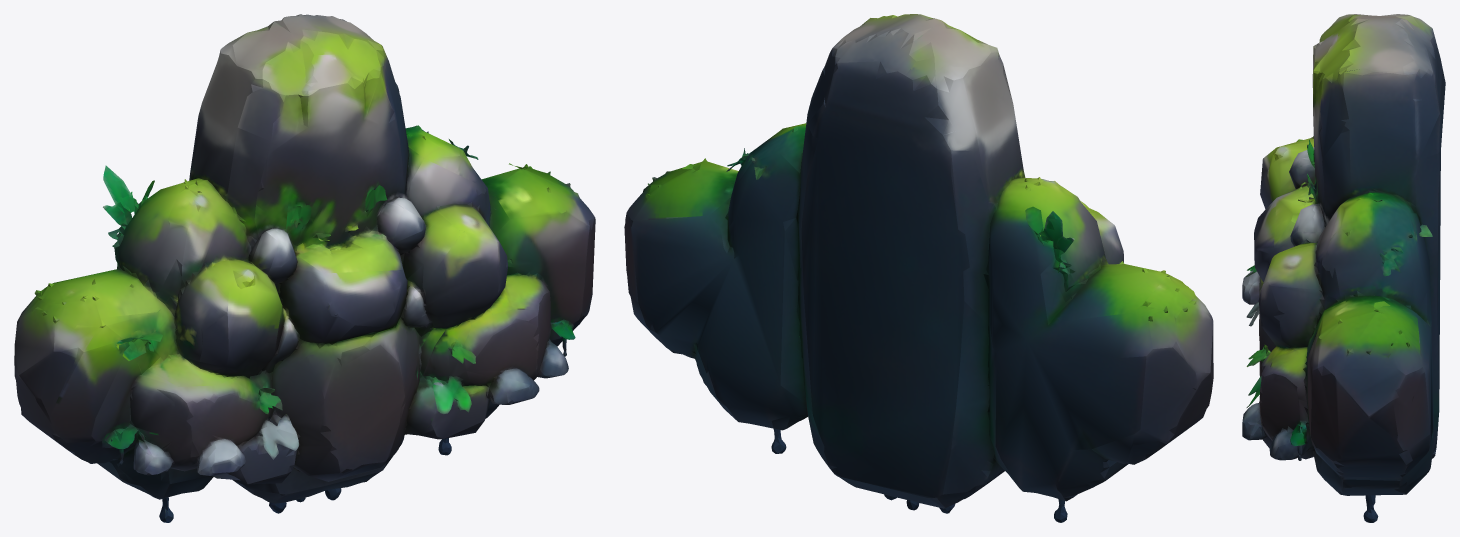
File: rock-cluster.glb
The picture shows the model from 3 angles, left to right: view 1: azimuth 30°, elevation 25°; view 2: azimuth 150°, elevation 25°; view 3: azimuth 270°, elevation 25°; orthographic projection. The views are drawn at different scales.
Visible parts, largest first — view 1: Rodin_rocks; view 2: Rodin_rocks; view 3: Rodin_rocks.
Boxes of the visible parts, x1,y1,x2,y2 form: Rodin_rocks: (14, 14, 595, 522); Rodin_rocks: (624, 14, 1213, 522); Rodin_rocks: (1242, 14, 1445, 522).
Bounding box in the file's own units: 1.9 × 1.52 × 0.615.
Materials: 1 (1 with a texture image).
